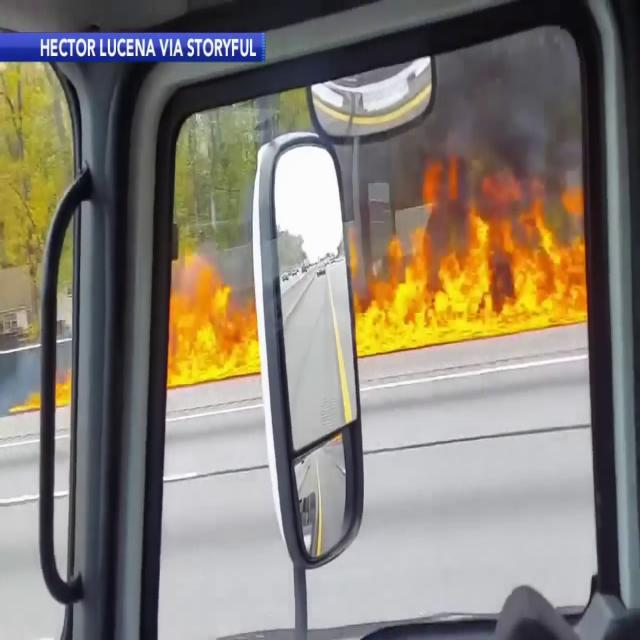Fire: (349, 154, 586, 352), (166, 264, 260, 386)
